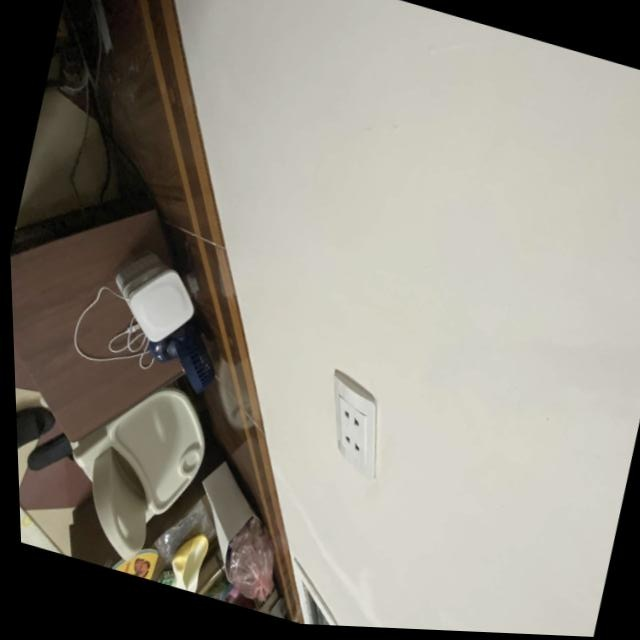outlet: (312, 368, 401, 483)
